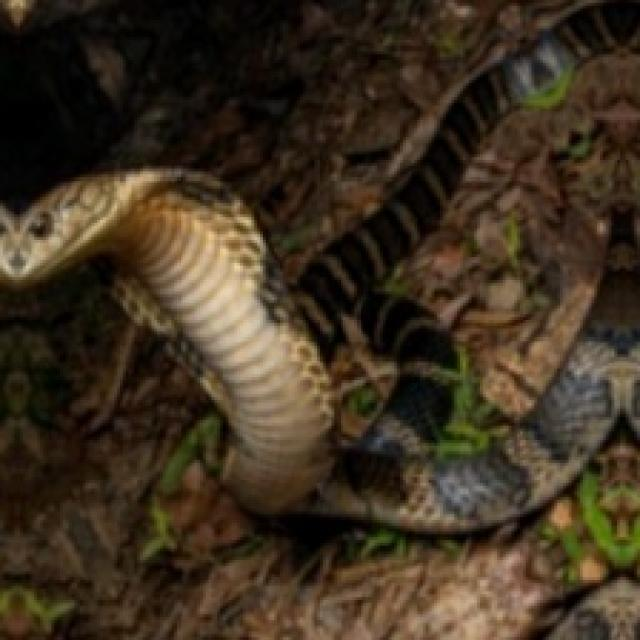king cobra: (0, 0, 637, 531), (0, 0, 637, 397), (0, 263, 637, 637)
